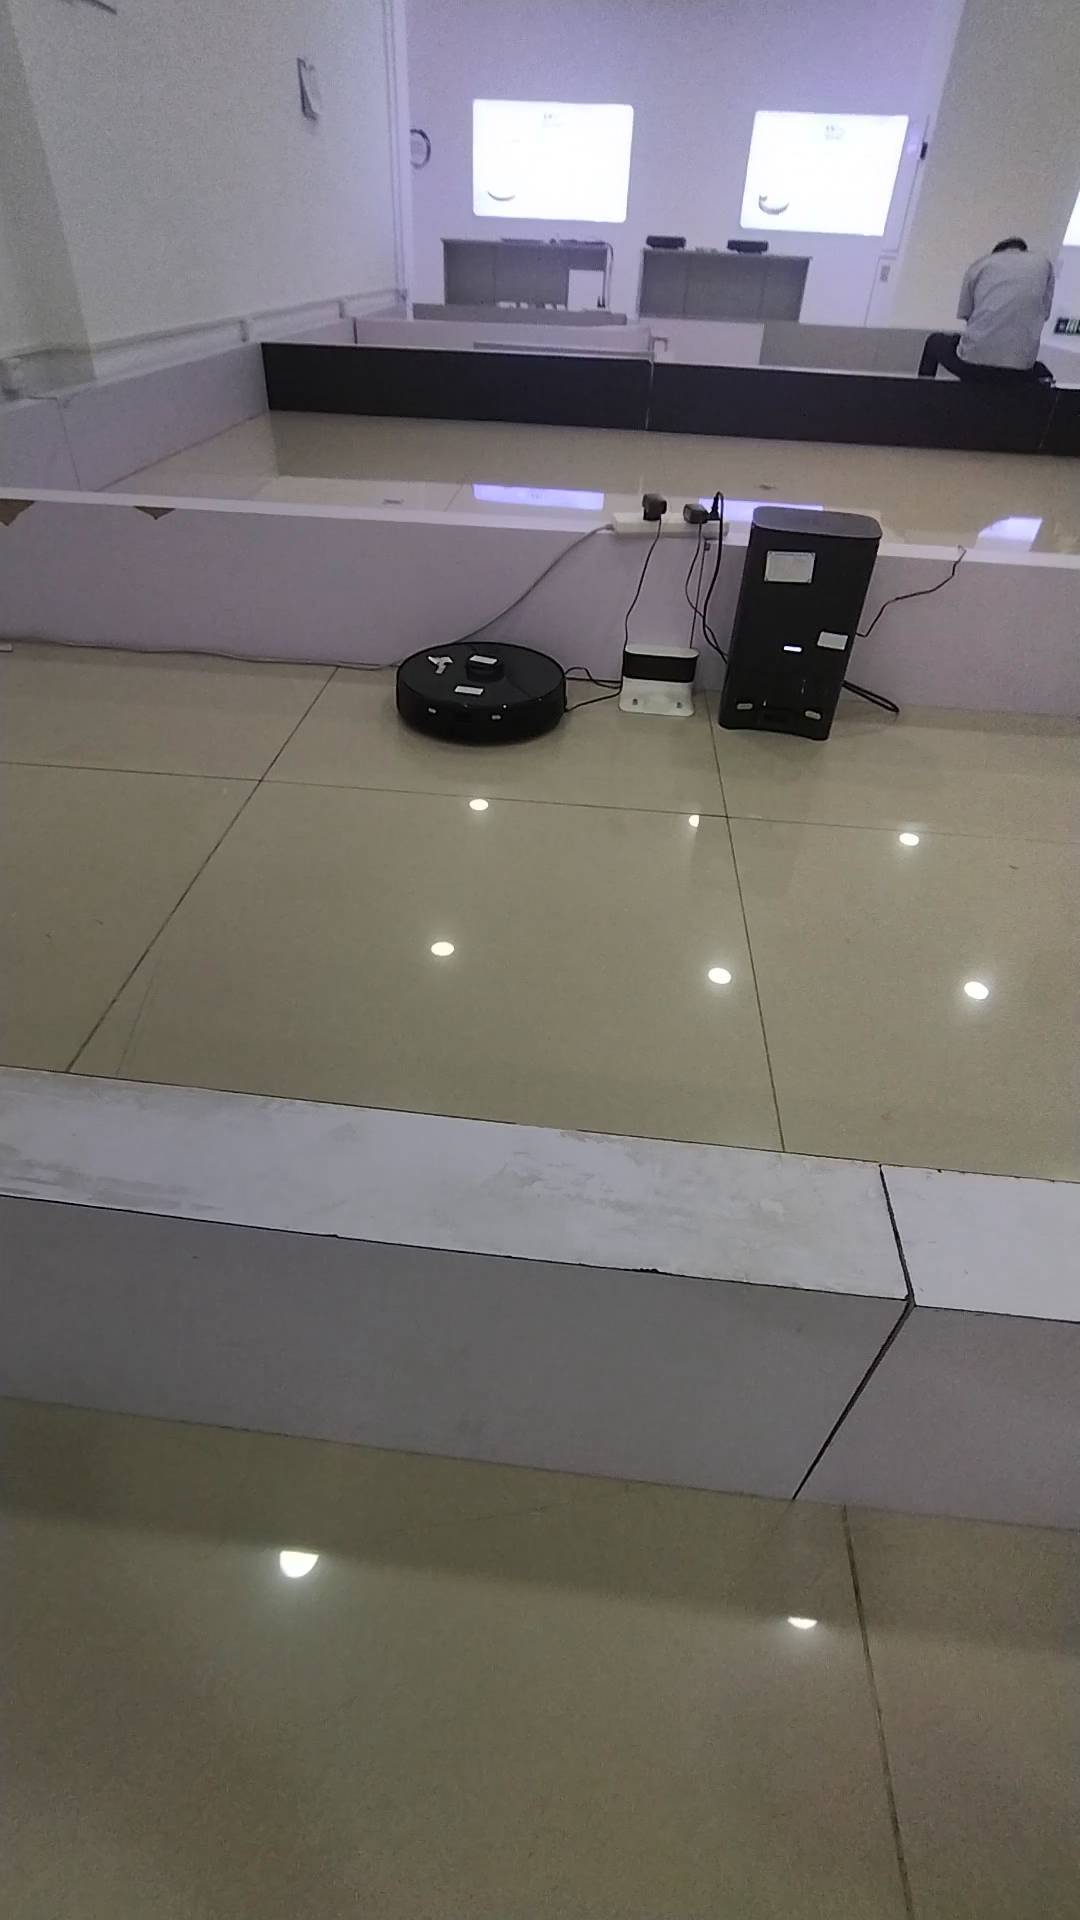dust collecting barrel: (717, 508, 885, 741)
recharge seat: (616, 645, 698, 721)
